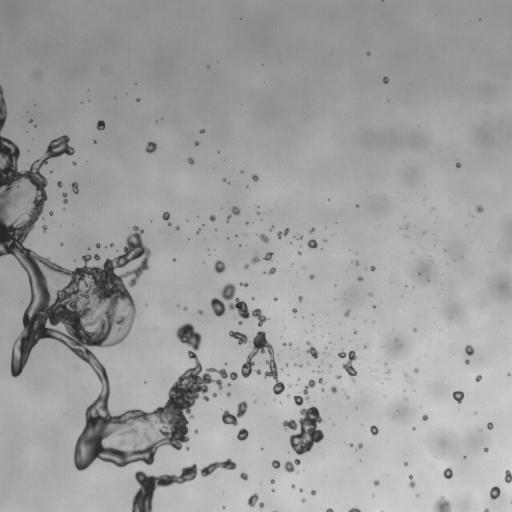droplet: (241, 330, 285, 394), (210, 283, 267, 326), (282, 406, 324, 455), (221, 401, 247, 425), (338, 350, 357, 381), (229, 330, 248, 345), (434, 496, 451, 511), (284, 459, 300, 472), (452, 391, 464, 403), (214, 260, 225, 273), (237, 428, 248, 441), (247, 493, 258, 506), (145, 141, 156, 153), (490, 486, 500, 499), (162, 211, 171, 225), (464, 344, 474, 355), (307, 239, 317, 249), (443, 468, 452, 479), (504, 470, 511, 483), (96, 120, 105, 130), (259, 233, 269, 242), (263, 252, 273, 261), (264, 267, 276, 274), (370, 425, 378, 435), (71, 182, 78, 193), (251, 255, 260, 263), (272, 460, 280, 468), (240, 472, 247, 480), (187, 157, 194, 164), (476, 205, 483, 212), (486, 422, 493, 429), (344, 309, 350, 317), (252, 174, 258, 181), (331, 386, 337, 393), (356, 443, 362, 450), (209, 215, 215, 221), (383, 77, 388, 83), (57, 181, 62, 187), (357, 276, 363, 281), (476, 375, 481, 381), (318, 378, 323, 384), (422, 414, 427, 420), (374, 480, 379, 486), (240, 282, 247, 286), (295, 363, 302, 367), (309, 274, 314, 279), (292, 308, 297, 313), (311, 490, 316, 495), (42, 225, 46, 231), (335, 375, 341, 379), (199, 129, 204, 133), (309, 228, 314, 232), (96, 243, 100, 248), (370, 266, 375, 270), (298, 296, 302, 301), (198, 309, 202, 314), (465, 359, 469, 364), (413, 368, 418, 372), (212, 392, 216, 397), (483, 447, 488, 451), (259, 502, 263, 507), (194, 141, 198, 145), (456, 163, 460, 167), (270, 226, 274, 230), (196, 229, 200, 233), (298, 235, 302, 239), (244, 264, 248, 268), (238, 320, 242, 324), (363, 344, 367, 348), (226, 392, 230, 396), (270, 479, 274, 483), (301, 498, 305, 502), (484, 508, 489, 511), (366, 52, 370, 55), (175, 226, 179, 229), (355, 261, 359, 264), (368, 293, 372, 296), (386, 370, 390, 373), (403, 374, 407, 377), (194, 430, 198, 433), (349, 443, 353, 446), (291, 484, 294, 488), (72, 162, 75, 165), (49, 211, 52, 214), (405, 225, 408, 228), (110, 243, 113, 246), (298, 251, 301, 254), (274, 297, 277, 300), (184, 307, 187, 310), (413, 328, 416, 331), (354, 330, 357, 333), (285, 363, 288, 366), (346, 395, 349, 398), (404, 462, 407, 465), (137, 98, 139, 101), (93, 140, 96, 142), (241, 170, 243, 173), (257, 211, 259, 214), (60, 243, 63, 245), (177, 304, 179, 307), (507, 373, 510, 375), (186, 447, 189, 449), (299, 489, 302, 491), (222, 506, 225, 508), (356, 205, 358, 207), (431, 208, 433, 210), (228, 383, 230, 385), (287, 394, 289, 396), (272, 489, 274, 491)
ligament: (0, 134, 237, 470), (131, 458, 236, 511), (293, 379, 315, 405), (0, 85, 7, 131), (226, 206, 240, 222), (306, 341, 318, 358), (277, 228, 289, 238), (408, 474, 415, 487), (28, 118, 36, 126), (62, 192, 67, 203), (348, 508, 361, 511), (282, 342, 291, 346), (222, 178, 228, 183), (325, 508, 333, 511), (273, 510, 276, 511)
